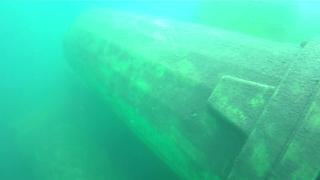pipe: (62, 7, 320, 180)
